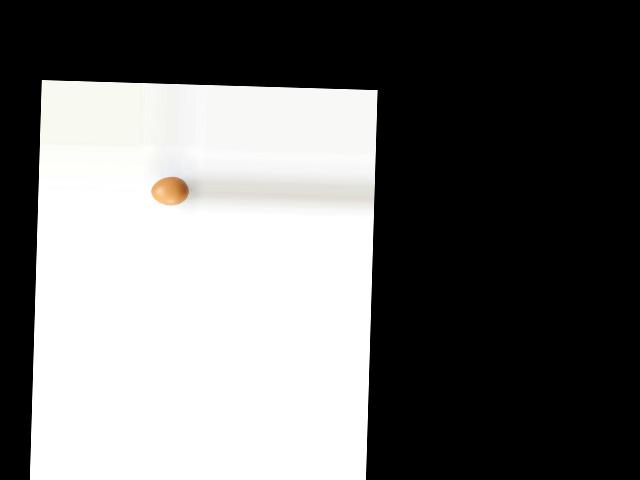egg: (150, 175, 190, 205)
